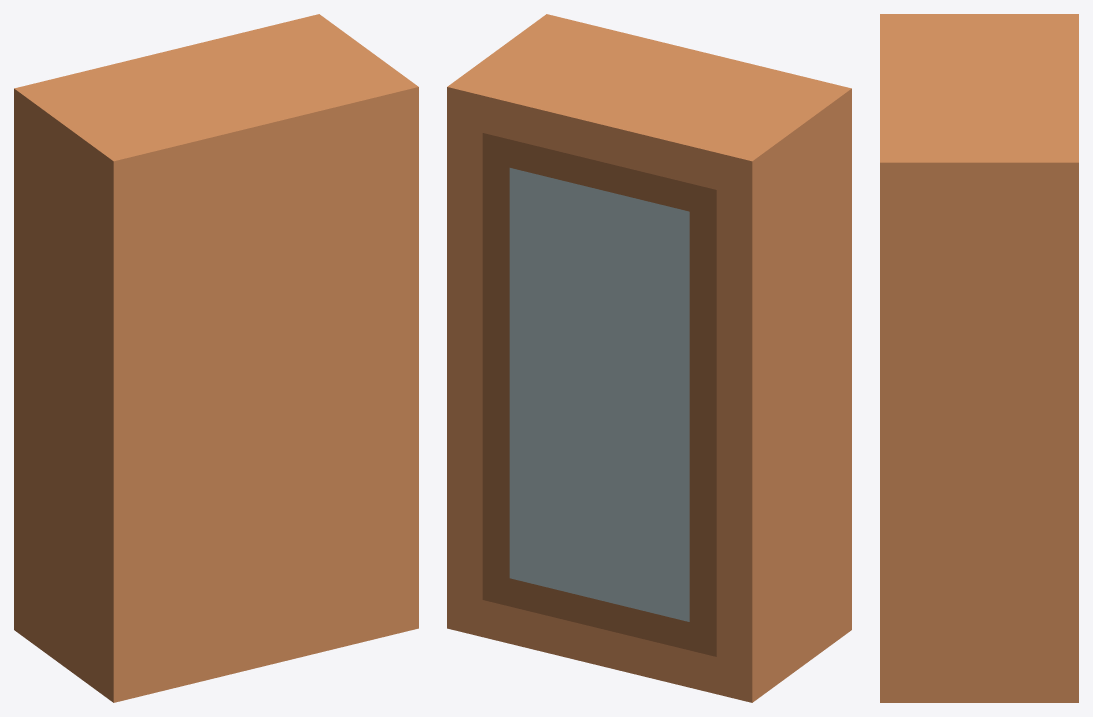
The model's file is Furniture_Bathroom_Cabinet.glb.
The picture shows the model from 3 angles, left to right: view 1: azimuth 30°, elevation 25°; view 2: azimuth 150°, elevation 25°; view 3: azimuth 270°, elevation 25°; orthographic projection.
Visible parts, largest first — view 1: bathroomCabinet; view 2: bathroomCabinet, door; view 3: bathroomCabinet.
Boxes of the visible parts, bbox=[...] form: bathroomCabinet: bbox=[14, 14, 418, 702]; bathroomCabinet: bbox=[447, 14, 851, 702]; door: bbox=[482, 133, 716, 656]; bathroomCabinet: bbox=[880, 14, 1078, 702].
Size of the model in its own units: 0.23 by 0.39 by 0.13.
